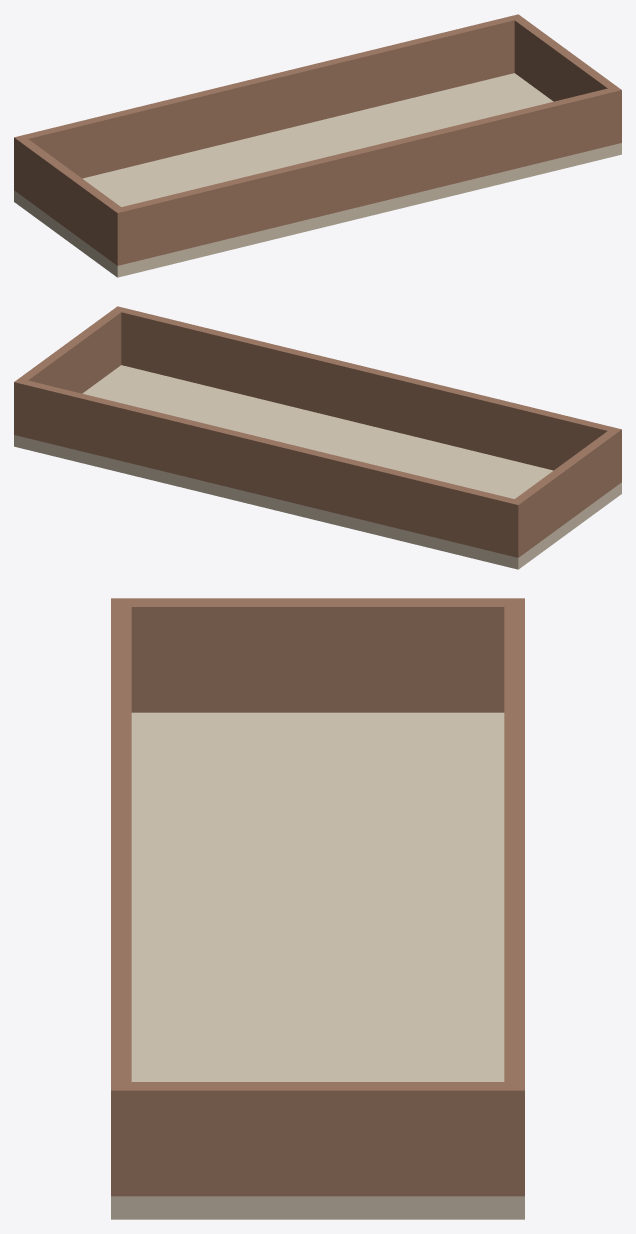
The model's file is before-tray.glb.
3 views of the same model, one above another, from view 1: azimuth 30°, elevation 25°; view 2: azimuth 150°, elevation 25°; view 3: azimuth 270°, elevation 25° (orthographic). The views are drawn at different scales.
Visible parts, largest first — view 1: storage-upper-front, storage-upper-back, storage-roof, storage-upper-left, storage-upper-right; view 2: storage-upper-back, storage-upper-front, storage-roof, storage-upper-left, storage-upper-right; view 3: storage-roof, storage-upper-right, storage-upper-left, storage-upper-back, storage-upper-front.
Part boxes in pixels (<box>): storage-upper-front: <box>121,88,612,263</box>; storage-upper-back: <box>23,16,514,178</box>; storage-roof: <box>14,73,621,277</box>; storage-upper-left: <box>14,135,126,265</box>; storage-upper-right: <box>510,14,621,144</box>; storage-upper-back: <box>23,380,514,555</box>; storage-upper-front: <box>121,308,612,470</box>; storage-roof: <box>14,365,621,569</box>; storage-upper-left: <box>509,427,621,557</box>; storage-upper-right: <box>14,306,125,436</box>; storage-roof: <box>111,712,524,1219</box>; storage-upper-right: <box>111,1082,524,1196</box>; storage-upper-left: <box>111,598,524,712</box>; storage-upper-back: <box>504,607,524,1081</box>; storage-upper-front: <box>111,607,131,1081</box>.
Bounding box in the file's own units: 0.45 × 0.055 × 0.16.
